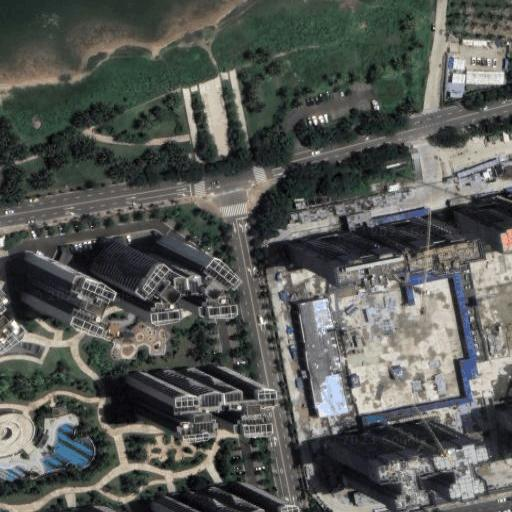building: (85, 233, 193, 302), (299, 300, 349, 419), (325, 431, 381, 490), (378, 421, 435, 478), (445, 267, 478, 359), (19, 251, 67, 313), (287, 230, 363, 266), (362, 217, 434, 254), (177, 366, 229, 415), (127, 371, 177, 419), (456, 197, 512, 231), (196, 483, 250, 512), (151, 493, 199, 512), (457, 158, 500, 178), (467, 72, 504, 85), (450, 72, 465, 99), (498, 405, 512, 429), (462, 39, 487, 46), (38, 434, 49, 448), (52, 406, 68, 415), (453, 59, 464, 69), (505, 59, 510, 69)
